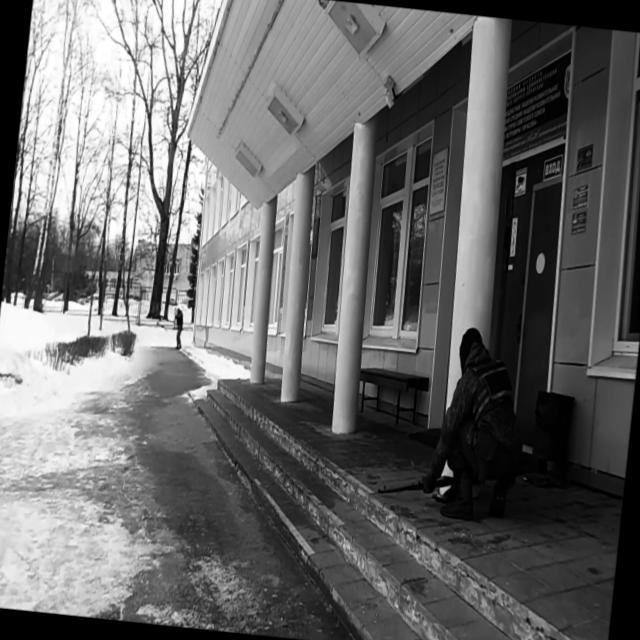gun: (376, 467, 458, 504)
person: (170, 304, 187, 351)
person with a gun: (374, 318, 534, 525)
